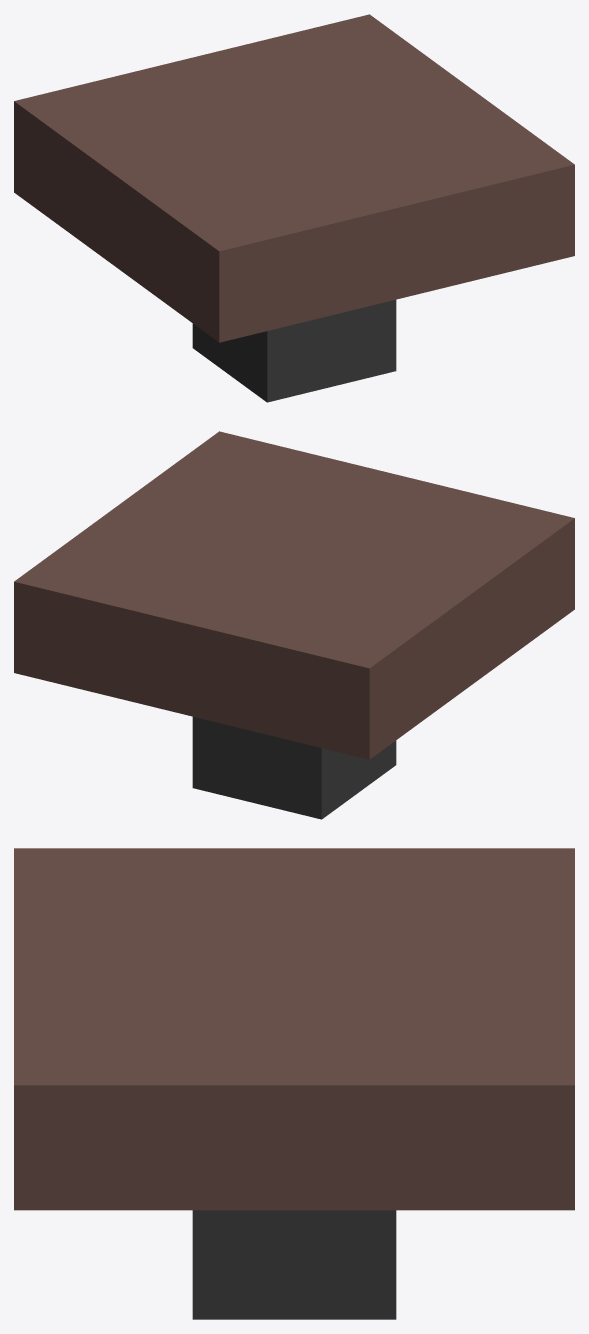
File: stool.fbx
3 views of the same model, one above another, from view 1: azimuth 30°, elevation 25°; view 2: azimuth 150°, elevation 25°; view 3: azimuth 270°, elevation 25° (orthographic). The views are drawn at different scales.
Parts seen in each view (by area): view 1: pCube14; view 2: pCube14; view 3: pCube14.
Boxes of the visible parts, left/top/right/bottom form: pCube14: left=14, top=14, right=574, bottom=402; pCube14: left=14, top=431, right=574, bottom=819; pCube14: left=14, top=848, right=574, bottom=1319.
Size of the model in its own units: 16.17 by 9.85 by 16.17.
